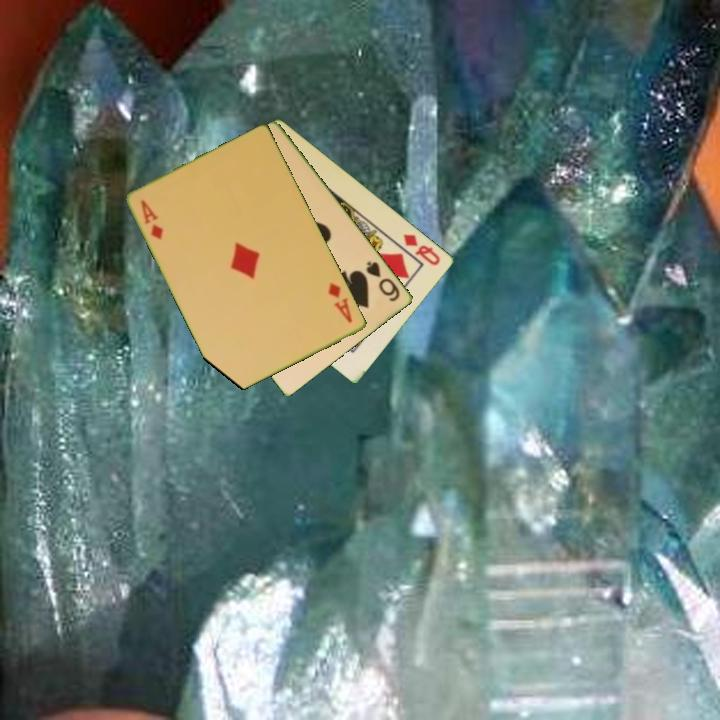6s: (363, 257, 403, 305)
Ad: (325, 279, 355, 326), (137, 196, 167, 243)
Qd: (400, 230, 444, 269)
